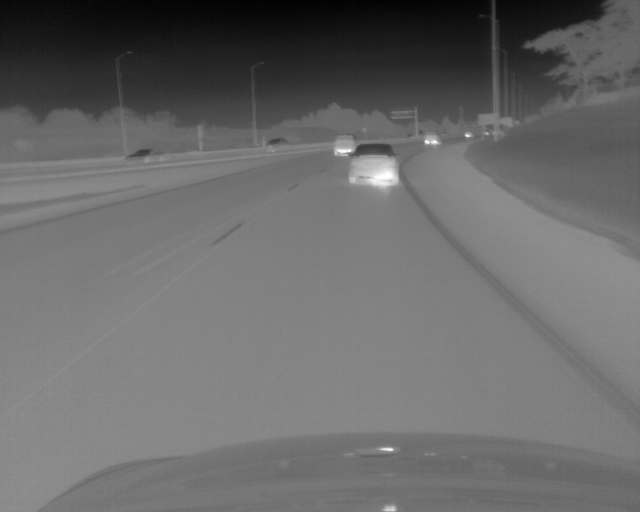car: (346, 142, 400, 187), (124, 148, 174, 163), (333, 133, 355, 155), (264, 136, 290, 147), (422, 129, 441, 144), (464, 130, 473, 137)
